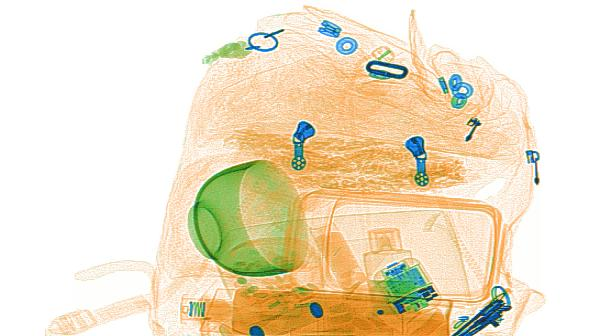plasticBottleWithaNozzle: (176, 283, 451, 331)
